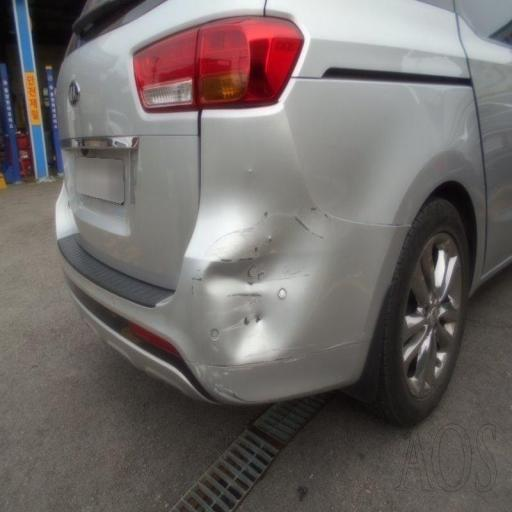dent: (211, 134, 338, 378)
